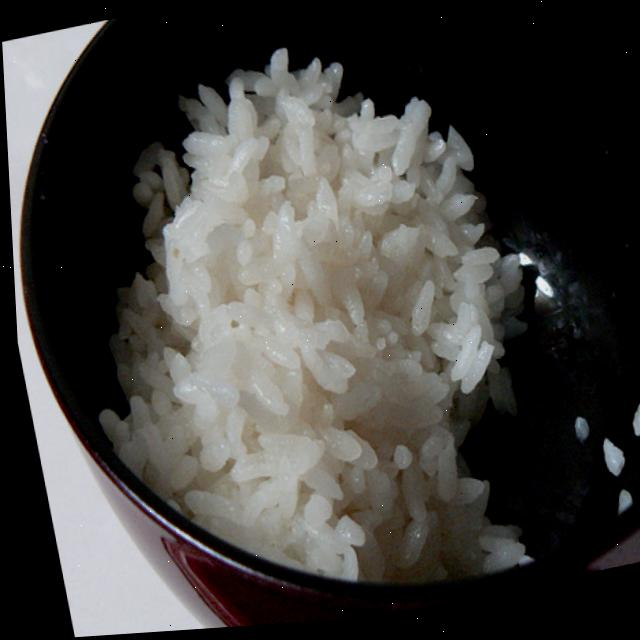米饭主食: (16, 0, 592, 639)
